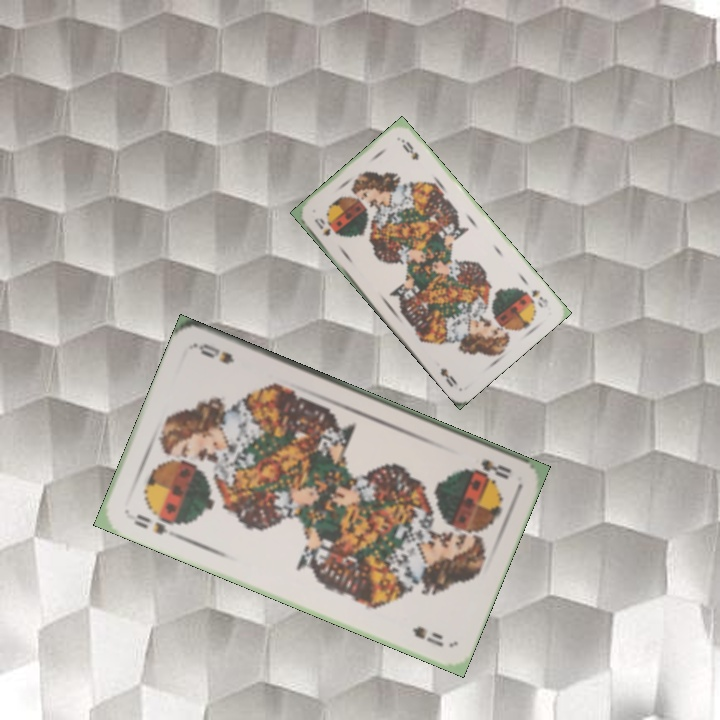SO: (468, 455, 515, 482), (130, 510, 170, 537), (521, 285, 551, 311), (310, 214, 333, 239)
